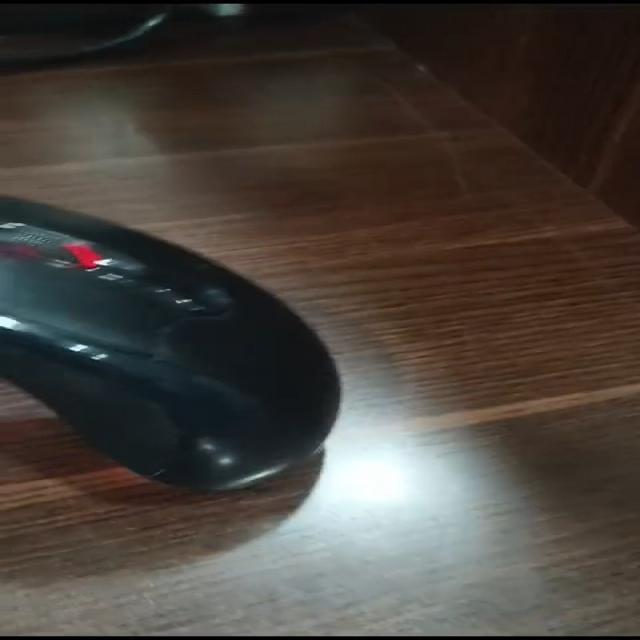mouse: (0, 156, 366, 502)
